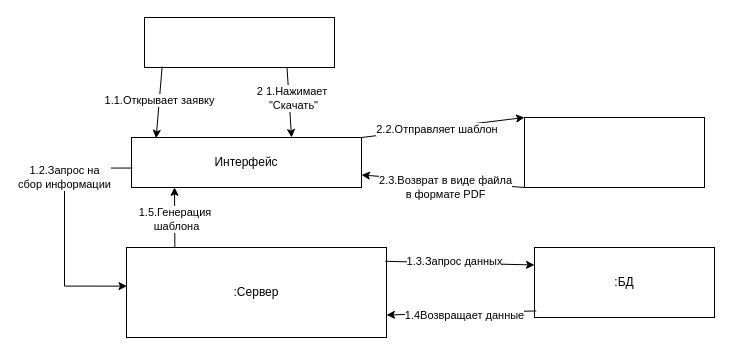
The diagram is 732 pixels wide and 355 high, and some of its shapes have lost their labels. The box of each missing label's shape, as (x1, y1, x2, y2) in pixels:
:Пользователь: (144, 16, 334, 68)
Генератор PDF: (524, 116, 704, 188)
